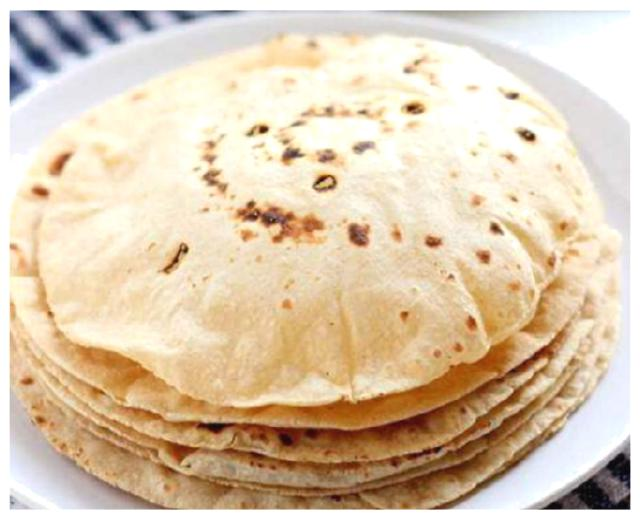chapati: (9, 35, 621, 508)
